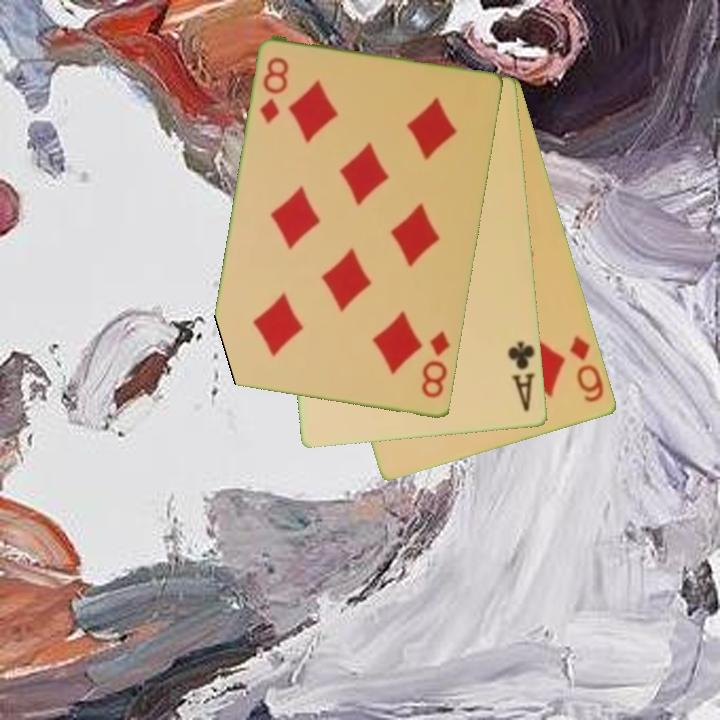6d: (567, 333, 608, 406)
8d: (256, 54, 292, 127), (418, 328, 453, 402)
Ac: (504, 339, 539, 415)
